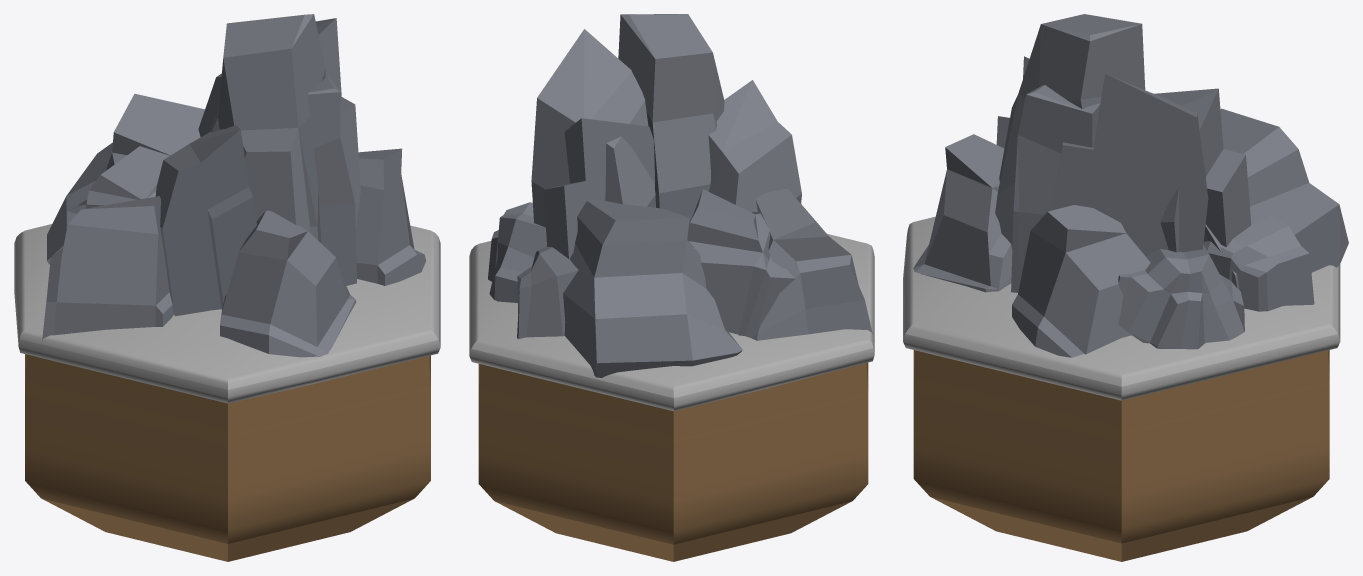
Rendered from Mountains2.fbx.
3 renders of one model, left to right at view 1: azimuth 30°, elevation 25°; view 2: azimuth 150°, elevation 25°; view 3: azimuth 270°, elevation 25°, orthographic. The views are drawn at different scales.
Parts seen in each view (by area): view 1: polySurface89; view 2: polySurface89; view 3: polySurface89.
Part boxes in pixels (box(x1,y1,x2,y2)): polySurface89: box(14, 14, 440, 561); polySurface89: box(469, 14, 874, 561); polySurface89: box(903, 14, 1348, 561).
Size of the model in its own units: 1.92 by 2.26 by 1.72.
